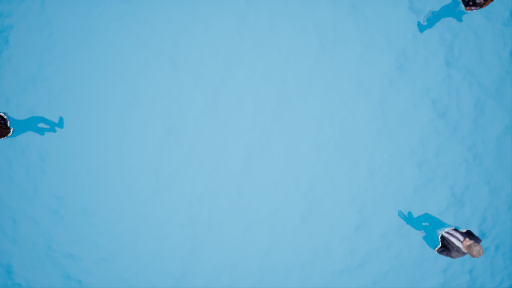person: (396, 205, 491, 260), (1, 93, 68, 146), (410, 1, 503, 34)
